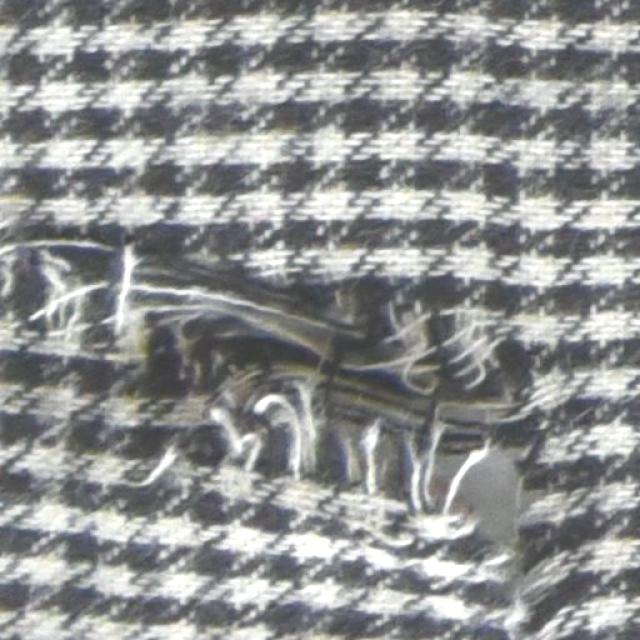Hole: (458, 449, 519, 546)
Snag: (0, 222, 576, 640)
